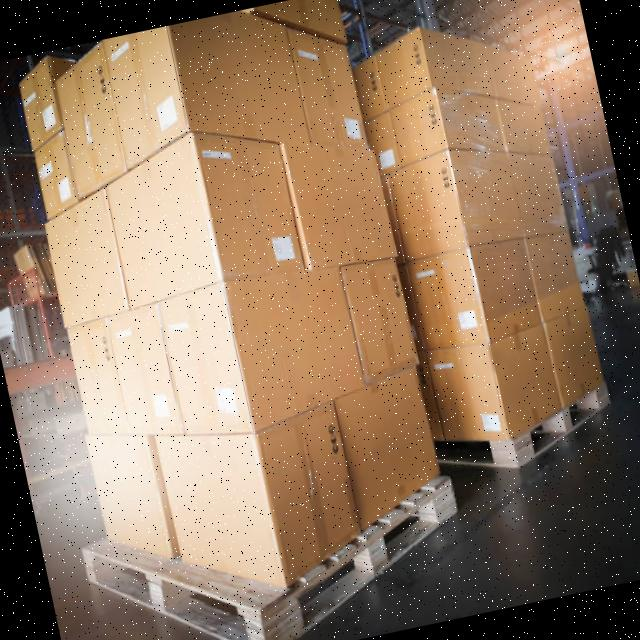Wooden-Pallets: (77, 469, 459, 640), (510, 370, 616, 477)
